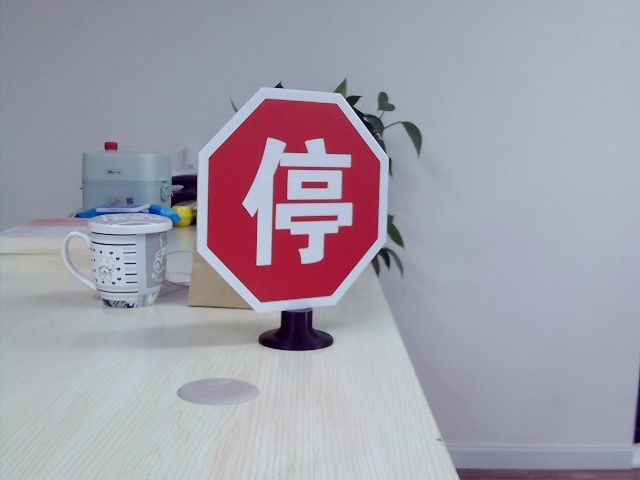stop: (238, 130, 355, 267)
